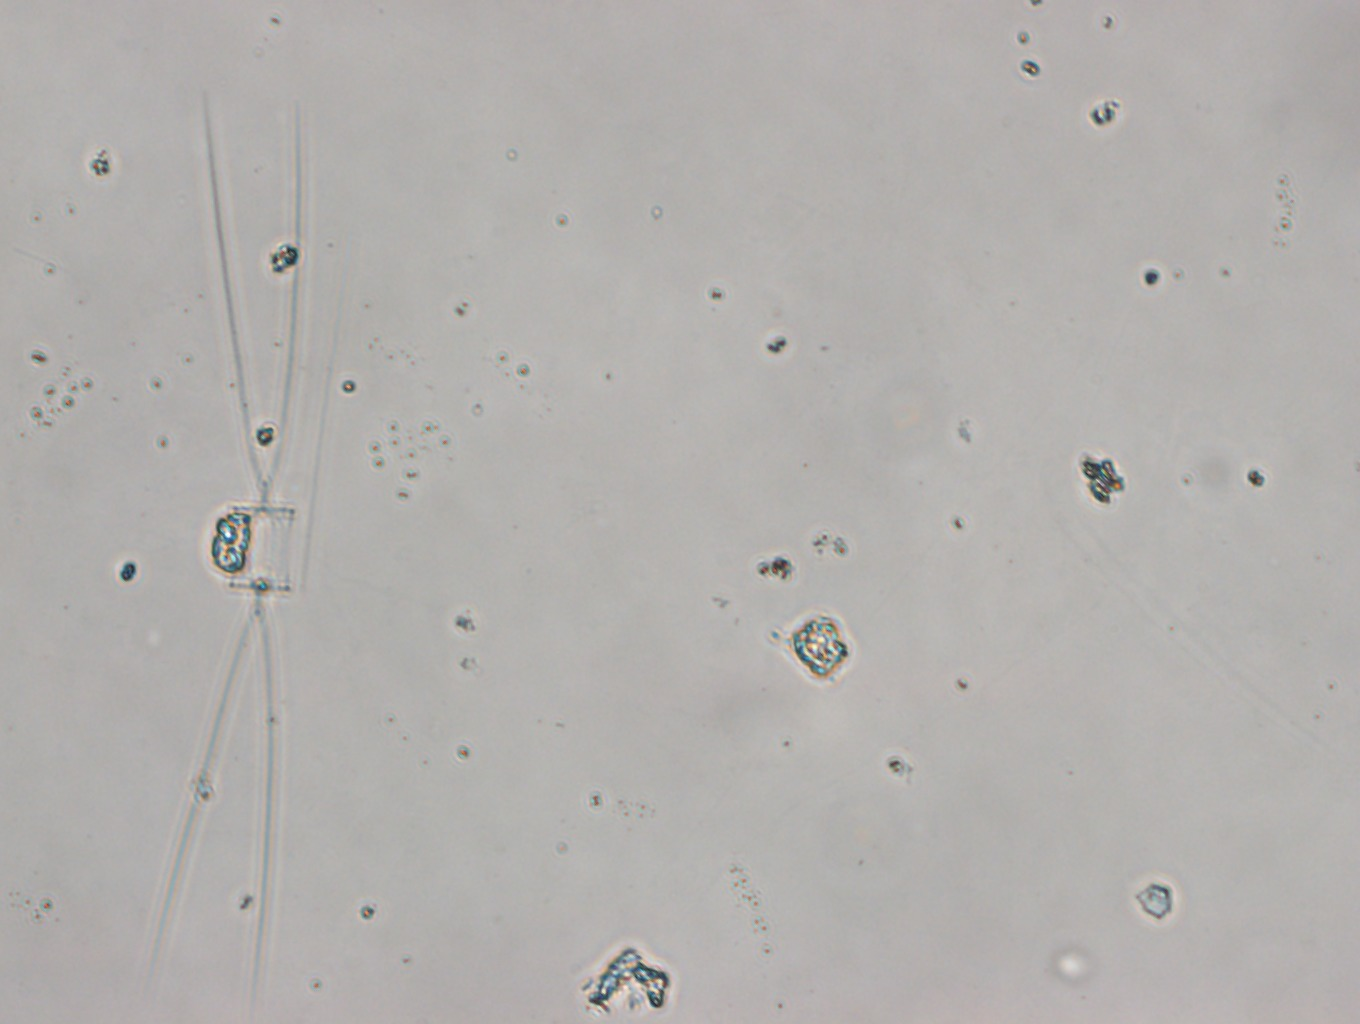chaetoceros: (146, 89, 302, 1010)
